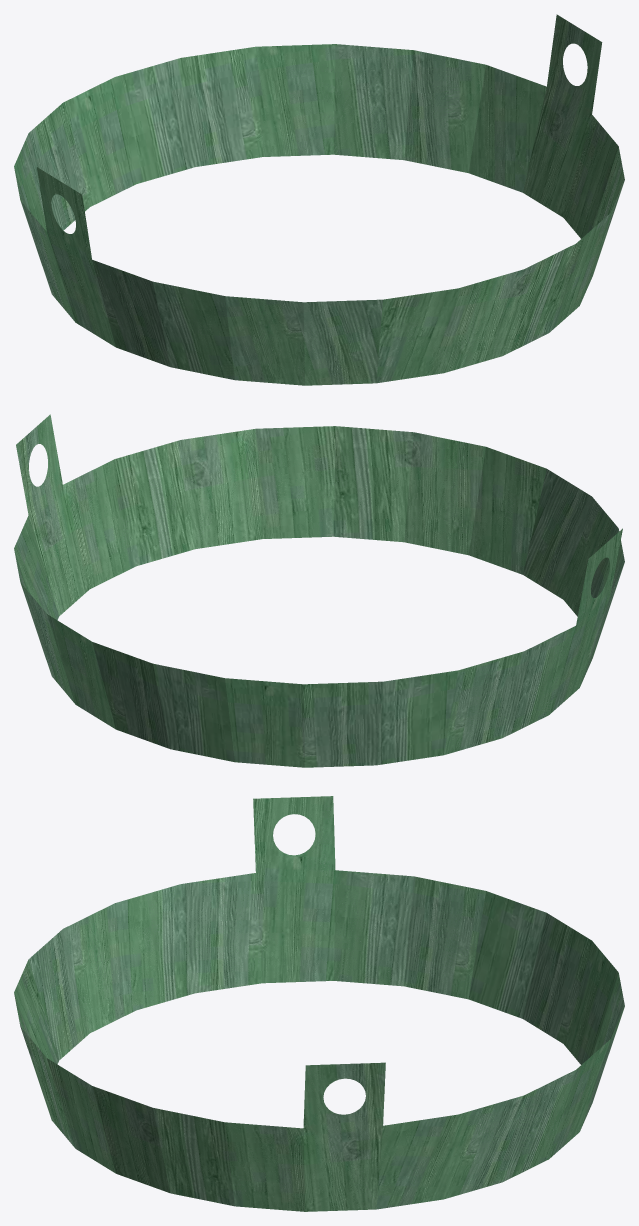
Rendered from original-7.obj.
The picture shows the model from 3 angles, top to bottom: view 1: azimuth 30°, elevation 25°; view 2: azimuth 150°, elevation 25°; view 3: azimuth 270°, elevation 25°; orthographic projection.
Visible parts, largest first — view 1: #ID59; view 2: #ID59; view 3: #ID59.
Part boxes in pixels (x1,y1,x2,y2): #ID59: (14, 14, 624, 385); #ID59: (14, 414, 624, 767); #ID59: (14, 796, 624, 1211).
Size of the model in its own units: 1.31 by 0.3771 by 1.26.
1 material, 1 textured.
